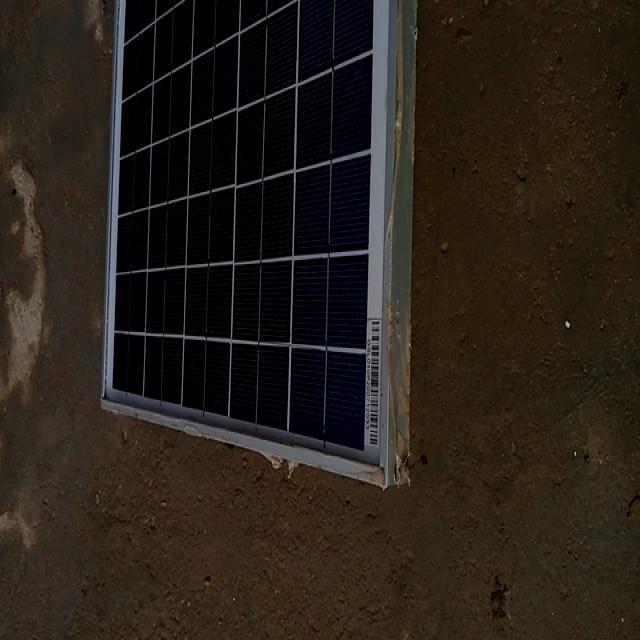Normal Solar Panel: (105, 0, 396, 480)
